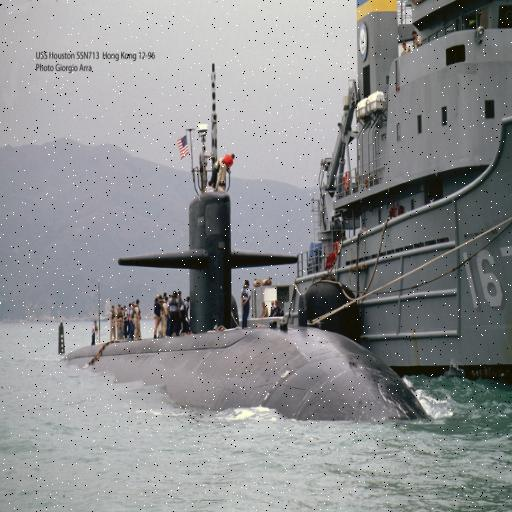submarine: (31, 61, 431, 419)
